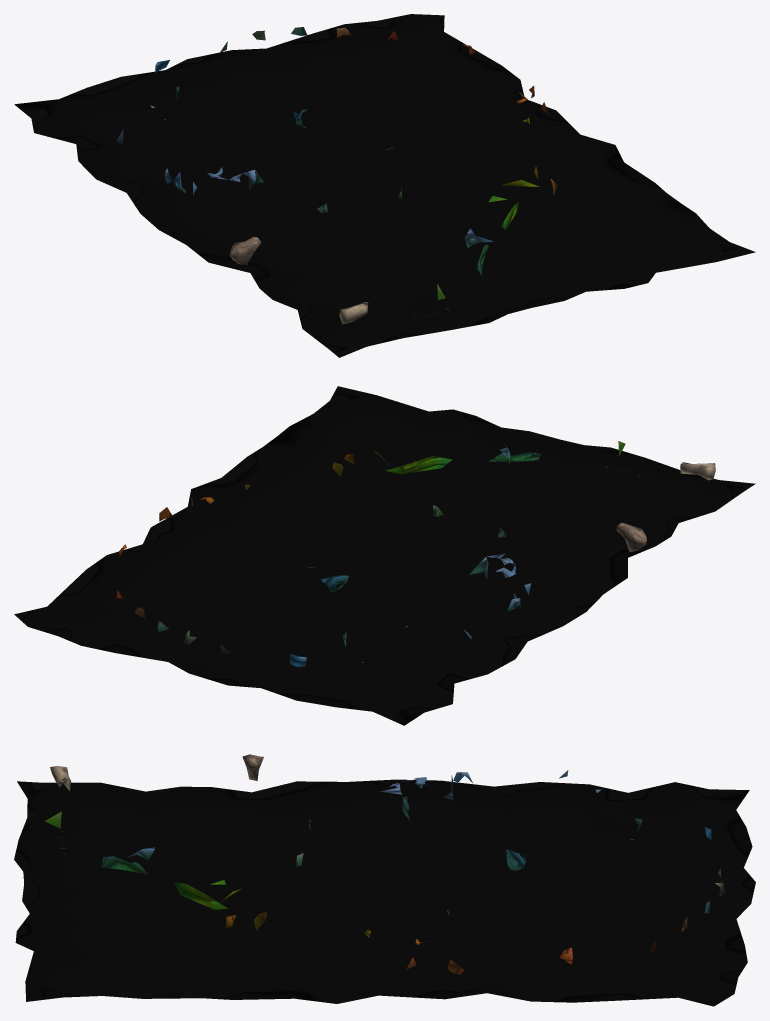
Rendered from weapon-bone-whip-flat-coil-v1.glb.
The picture shows the model from 3 angles, top to bottom: view 1: azimuth 30°, elevation 25°; view 2: azimuth 150°, elevation 25°; view 3: azimuth 270°, elevation 25°; orthographic projection. The views are drawn at different scales.
Parts seen in each view (by area): view 1: geometry_0; view 2: geometry_0; view 3: geometry_0.
Boxes of the visible parts, left/top/right/bottom form: geometry_0: left=14, top=14, right=755, bottom=357; geometry_0: left=14, top=386, right=755, bottom=725; geometry_0: left=14, top=754, right=755, bottom=1006.
Bounding box in the file's own units: 0.7134 × 0.0567 × 0.9842.
1 material, 1 textured.
